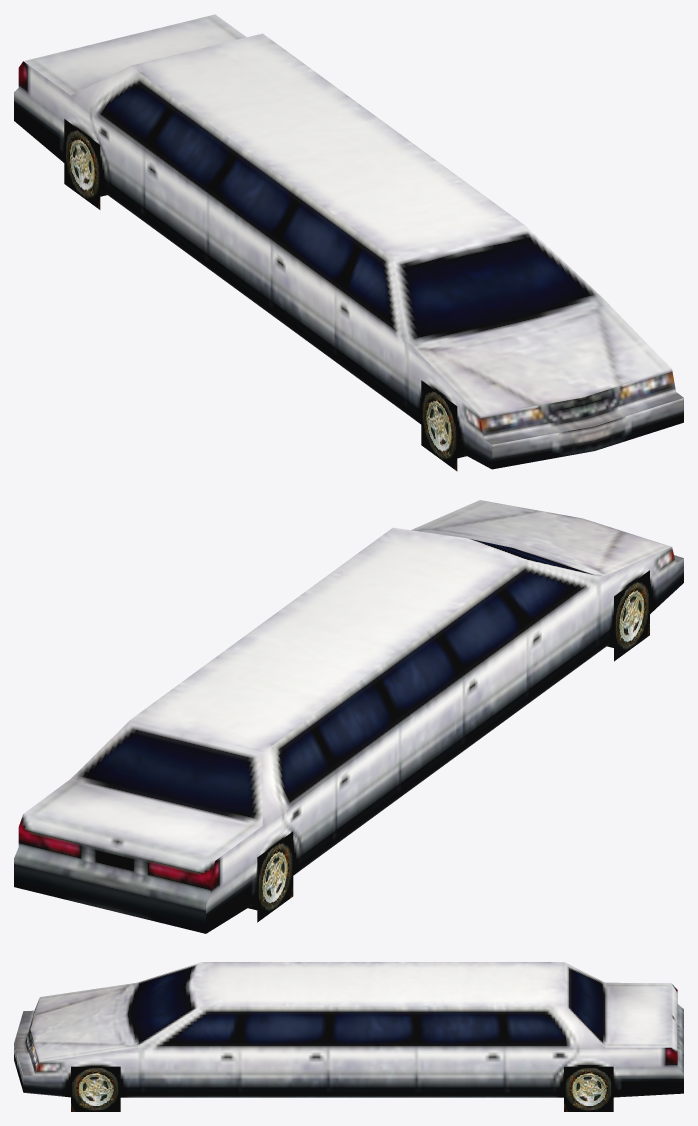
File: limo_drone.glb
3 views of the same model, one above another, from view 1: azimuth 30°, elevation 25°; view 2: azimuth 150°, elevation 25°; view 3: azimuth 270°, elevation 25° (orthographic). The views are drawn at different scales.
Visible parts, largest first — view 1: LimoMAIN_NULL0004, LimoMAIN_NULL0001, LimoMAIN_NULL0002; view 2: LimoMAIN_NULL0004, LimoMAIN_NULL0002, LimoMAIN_NULL0001; view 3: LimoMAIN_NULL0004, LimoMAIN_NULL0003, LimoMAIN_NULL0000.
Boxes of the visible parts, x1=… form: LimoMAIN_NULL0004: x1=14, y1=14, x2=683, y2=469; LimoMAIN_NULL0001: x1=421, y1=380, x2=457, y2=471; LimoMAIN_NULL0002: x1=64, y1=119, x2=100, y2=209; LimoMAIN_NULL0004: x1=14, y1=500, x2=683, y2=933; LimoMAIN_NULL0002: x1=257, y1=831, x2=293, y2=922; LimoMAIN_NULL0001: x1=614, y1=570, x2=649, y2=661; LimoMAIN_NULL0004: x1=14, y1=962, x2=683, y2=1097; LimoMAIN_NULL0003: x1=71, y1=1066, x2=120, y2=1111; LimoMAIN_NULL0000: x1=564, y1=1066, x2=613, y2=1111.
Size of the model in its own units: 0.0187 by 0.0127 by 0.0813.
2 materials, 2 textured.
